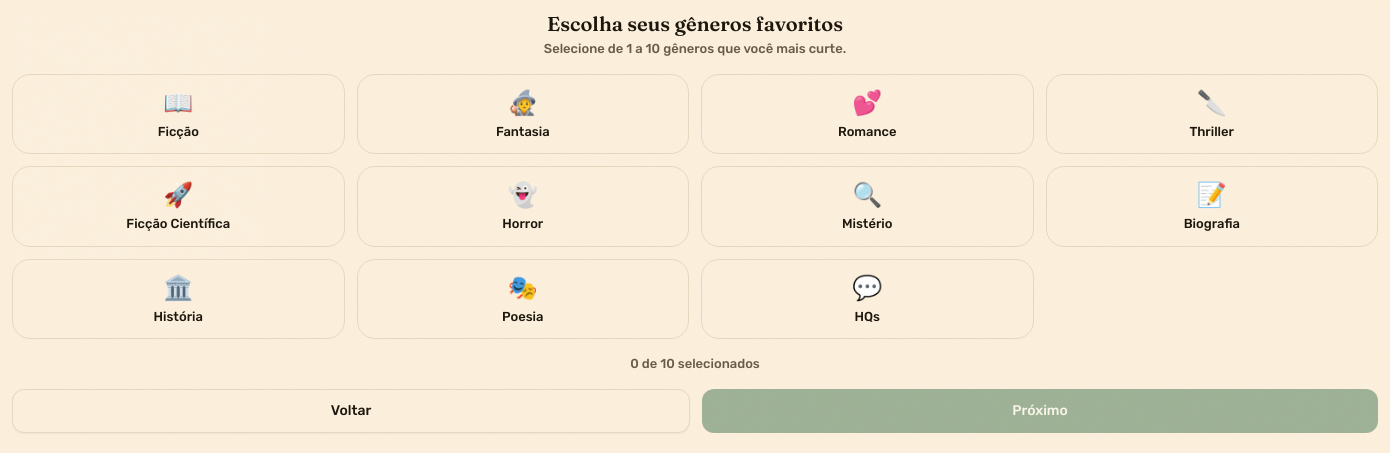
StepGenresForm › updates counter on selection
Expected: the text "0 de 10 selecionados" is shown, [630,356,760,371]
What coordinates should you click on to do the following:
click the button "📖 Ficção"
I would click on:
 (178, 114)
Its box is [12,74,344,154].
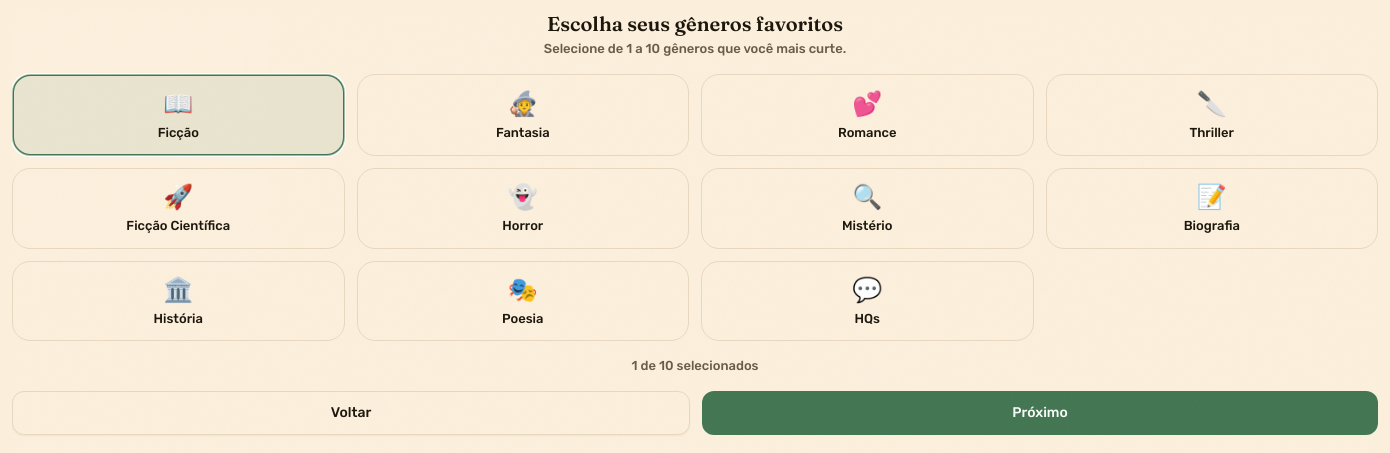
Expected: the text "1 de 10 selecionados" is shown, [632,358,758,373]
